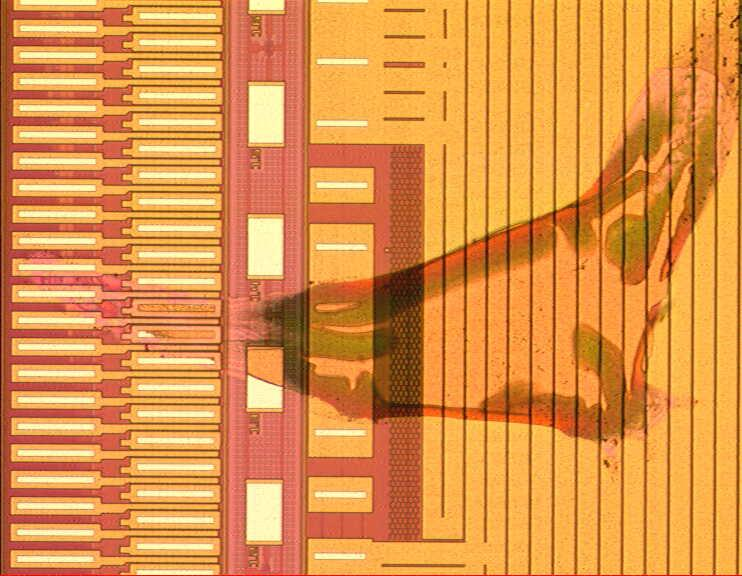BLOCK ETCH: (18, 1, 742, 499)
